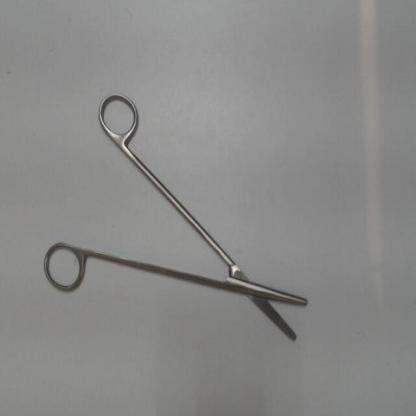9 Metzenbaum Scissors: (40, 88, 314, 349)
